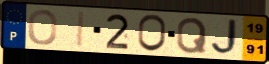2: (105, 13, 131, 50)
I: (75, 10, 87, 49)
J: (210, 18, 243, 57)
O: (136, 13, 168, 54), (26, 8, 58, 46)
Q: (175, 16, 208, 55)
